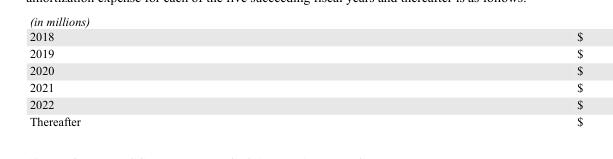table: (28, 28, 582, 127)
table column: (28, 28, 328, 127), (328, 28, 582, 127)
table row: (28, 44, 582, 61), (28, 61, 582, 78), (28, 78, 582, 95), (28, 95, 582, 112), (28, 28, 582, 44), (28, 112, 582, 127)
